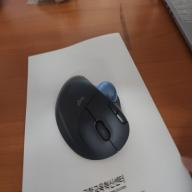mouse: (47, 64, 137, 163)
